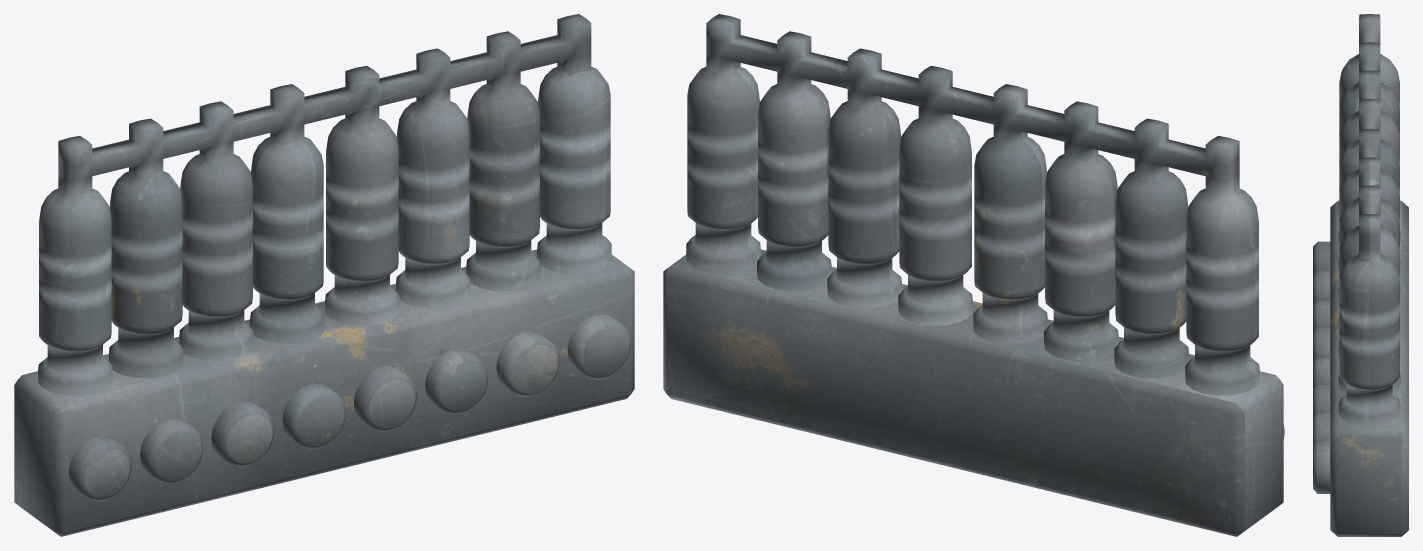
Rendered from ShipEngineDebris5.fbx.
3 renders of one model, left to right at view 1: azimuth 30°, elevation 25°; view 2: azimuth 150°, elevation 25°; view 3: azimuth 270°, elevation 25°, orthographic. The views are drawn at different scales.
Visible parts, largest first — view 1: Roundcube.008; view 2: Roundcube.008; view 3: Roundcube.008.
Boxes of the visible parts, bbox=[...] form: Roundcube.008: bbox=[14, 14, 634, 536]; Roundcube.008: bbox=[663, 14, 1284, 536]; Roundcube.008: bbox=[1313, 14, 1408, 536].
Bounding box in the file's own units: 912 × 558 × 159.
